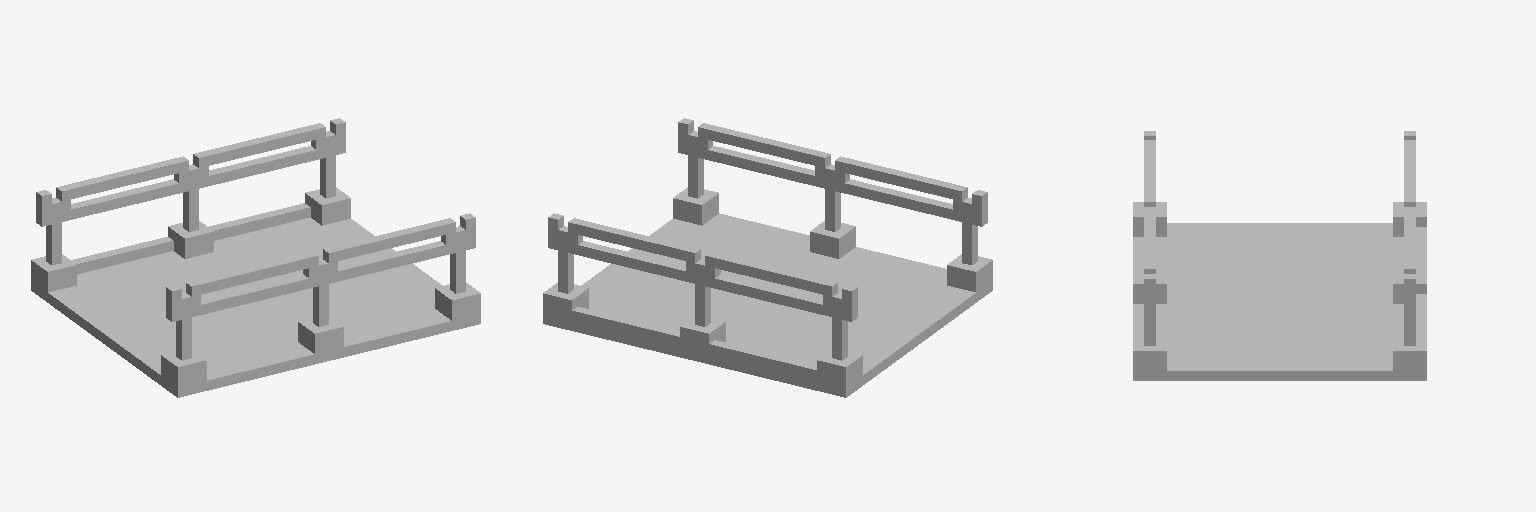
Rendered from bridge.obj.
3 renders of one model, left to right at view 1: azimuth 30°, elevation 25°; view 2: azimuth 150°, elevation 25°; view 3: azimuth 270°, elevation 25°, orthographic.
Parts seen in each view (by area): view 1: object 1; view 2: object 1; view 3: object 1.
Part boxes in pixels (left/top/right/bottom): object 1: left=31, top=118, right=480, bottom=397; object 1: left=543, top=118, right=992, bottom=397; object 1: left=1133, top=131, right=1426, bottom=380.
Size of the model in its own units: 3.1 by 1 by 2.6.